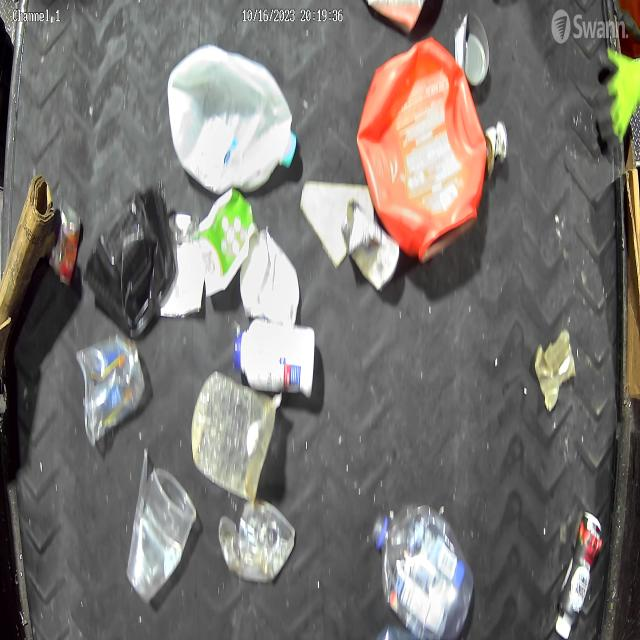can: (339, 194, 399, 298), (42, 198, 82, 292), (456, 9, 501, 92)
milk_jug: (165, 43, 299, 193)
non_white_jug: (355, 40, 491, 264)
plastic_bottle: (373, 501, 472, 635)
